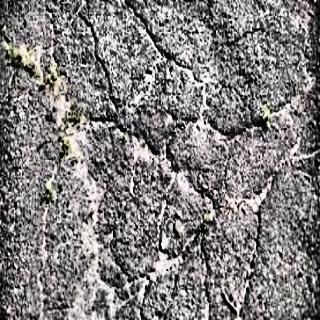alligator-crack: (73, 2, 320, 320)
crack: (3, 12, 69, 320)
